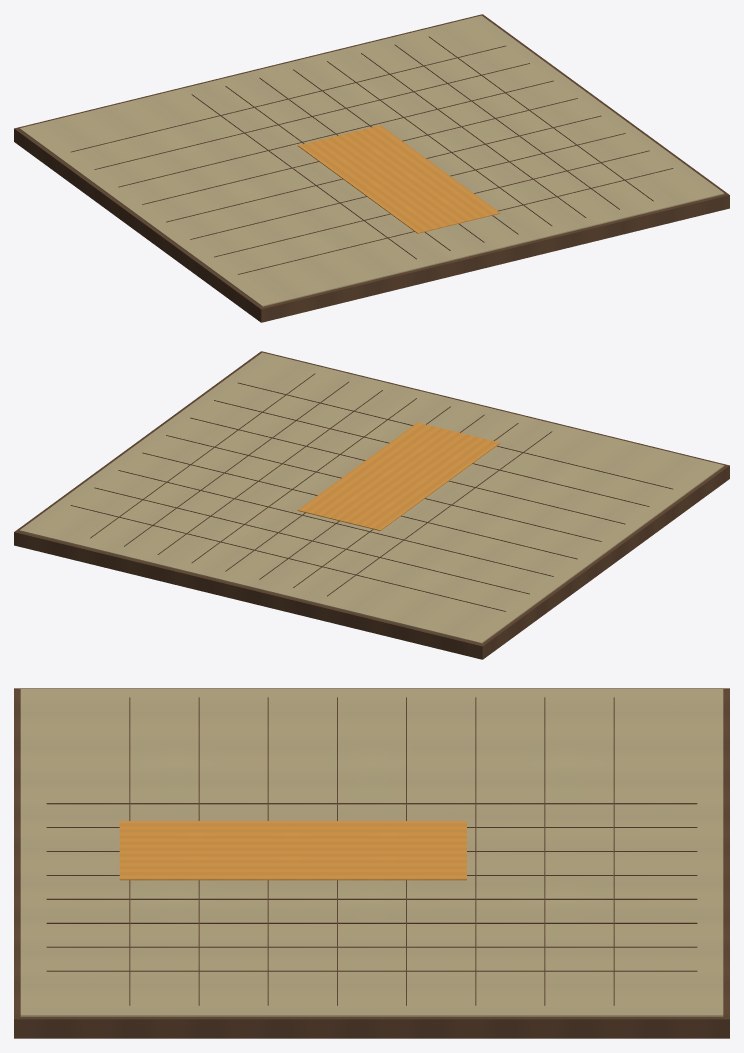
File: atlas100-s013-a07.lod1.glb
The picture shows the model from 3 angles, top to bottom: view 1: azimuth 30°, elevation 25°; view 2: azimuth 150°, elevation 25°; view 3: azimuth 270°, elevation 25°; orthographic projection. The views are drawn at different scales.
Parts seen in each view (by area): view 1: atlas100-s013-a07:part-001, atlas100-s013-a07:part-000, atlas100-s013-a07:part-021, atlas100-s013-a07:part-015, atlas100-s013-a07:part-013, atlas100-s013-a07:part-014, atlas100-s013-a07:part-017, atlas100-s013-a07:part-019, atlas100-s013-a07:part-016, atlas100-s013-a07:part-018, atlas100-s013-a07:part-020; view 2: atlas100-s013-a07:part-001, atlas100-s013-a07:part-000, atlas100-s013-a07:part-021, atlas100-s013-a07:part-013, atlas100-s013-a07:part-015, atlas100-s013-a07:part-014, atlas100-s013-a07:part-016, atlas100-s013-a07:part-018, atlas100-s013-a07:part-017, atlas100-s013-a07:part-019, atlas100-s013-a07:part-020; view 3: atlas100-s013-a07:part-001, atlas100-s013-a07:part-000, atlas100-s013-a07:part-021, atlas100-s013-a07:part-009, atlas100-s013-a07:part-011, atlas100-s013-a07:part-012, atlas100-s013-a07:part-005, atlas100-s013-a07:part-010, atlas100-s013-a07:part-015, atlas100-s013-a07:part-013, atlas100-s013-a07:part-014.
Boxes of the visible parts, bbox=[...] form: atlas100-s013-a07:part-001: bbox=[19, 15, 724, 306]; atlas100-s013-a07:part-000: bbox=[14, 14, 729, 322]; atlas100-s013-a07:part-021: bbox=[297, 125, 500, 233]; atlas100-s013-a07:part-015: bbox=[118, 80, 553, 187]; atlas100-s013-a07:part-013: bbox=[71, 45, 505, 152]; atlas100-s013-a07:part-014: bbox=[94, 63, 529, 169]; atlas100-s013-a07:part-017: bbox=[166, 115, 601, 222]; atlas100-s013-a07:part-019: bbox=[214, 150, 649, 257]; atlas100-s013-a07:part-016: bbox=[142, 98, 577, 204]; atlas100-s013-a07:part-018: bbox=[190, 133, 625, 239]; atlas100-s013-a07:part-020: bbox=[238, 168, 673, 274]; atlas100-s013-a07:part-001: bbox=[19, 352, 724, 643]; atlas100-s013-a07:part-000: bbox=[14, 351, 729, 659]; atlas100-s013-a07:part-021: bbox=[297, 422, 500, 530]; atlas100-s013-a07:part-013: bbox=[70, 505, 505, 611]; atlas100-s013-a07:part-015: bbox=[118, 470, 553, 576]; atlas100-s013-a07:part-014: bbox=[94, 487, 529, 594]; atlas100-s013-a07:part-016: bbox=[142, 452, 577, 559]; atlas100-s013-a07:part-018: bbox=[190, 417, 625, 524]; atlas100-s013-a07:part-017: bbox=[166, 435, 601, 541]; atlas100-s013-a07:part-019: bbox=[214, 400, 649, 506]; atlas100-s013-a07:part-020: bbox=[238, 382, 672, 489]; atlas100-s013-a07:part-001: bbox=[20, 689, 723, 1016]; atlas100-s013-a07:part-000: bbox=[14, 688, 729, 1038]; atlas100-s013-a07:part-021: bbox=[119, 821, 466, 880]; atlas100-s013-a07:part-009: bbox=[46, 898, 697, 899]; atlas100-s013-a07:part-011: bbox=[46, 946, 697, 947]; atlas100-s013-a07:part-012: bbox=[46, 970, 697, 971]; atlas100-s013-a07:part-005: bbox=[46, 803, 697, 804]; atlas100-s013-a07:part-010: bbox=[46, 922, 697, 923]; atlas100-s013-a07:part-015: bbox=[475, 697, 476, 1005]; atlas100-s013-a07:part-013: bbox=[613, 697, 614, 1005]; atlas100-s013-a07:part-014: bbox=[544, 697, 545, 1005].
Bounding box in the file's own units: 12.46 × 0.404 × 11.39.
3 materials, 3 textured.
